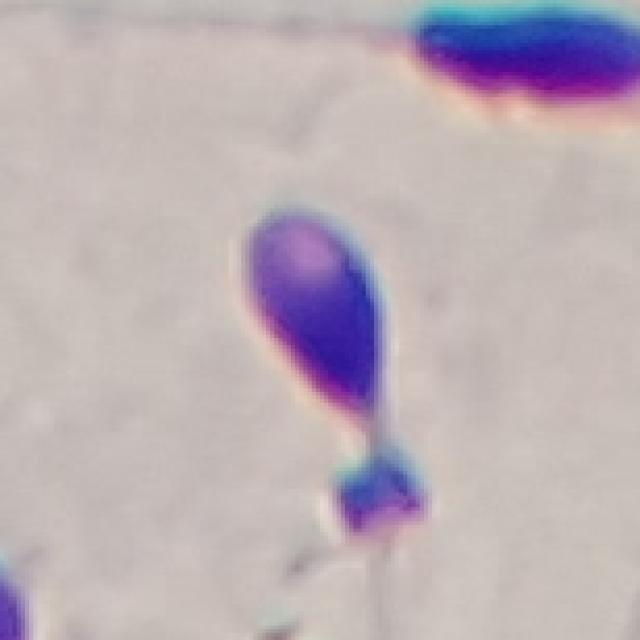abnormal sperm: (213, 200, 436, 532)
